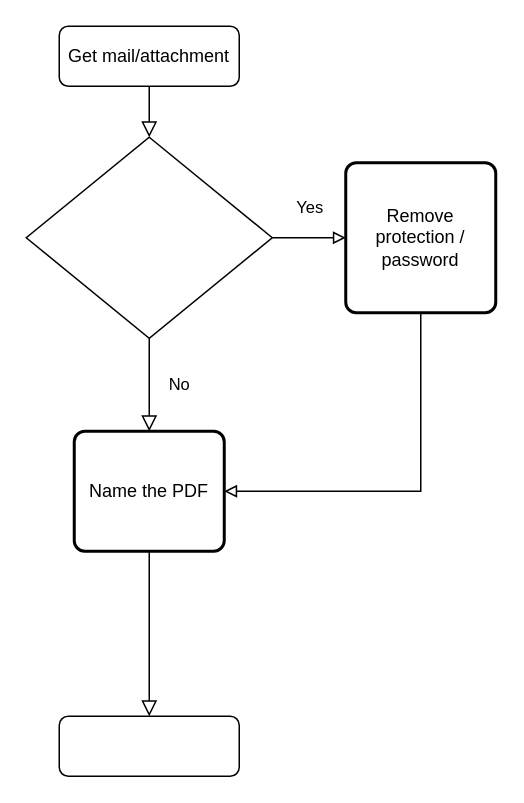
The diagram is 524 pixels wide and 803 high, and some of its shapes have lost their labels. The shapes that lost their labels are listed below. From the top down, each one's centre as x and y in pixels, then its label:
pixel 148 237: PDF Have protection/password?
pixel 148 745: Save PDF file to onedrive
